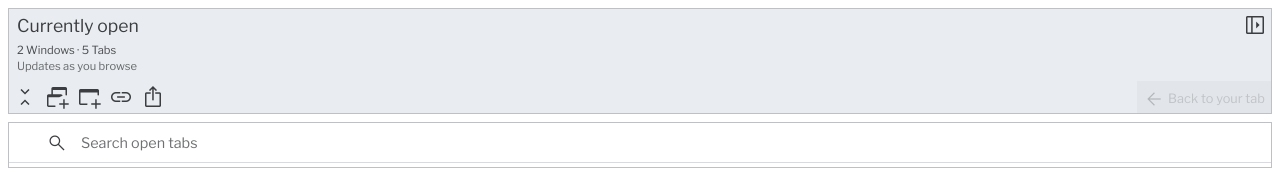
Test: live windows and groups (Open now) › Open now's header Copy all links icon › is hidden while the Open now search holds text, and back when it is cleared
Expected: the button named "Copy all links" is shown, [109,83,133,111]
Type "t2" into the field labelled "Search open tabs".
click(656, 142); type("t2")  # box [73,123,1239,162]
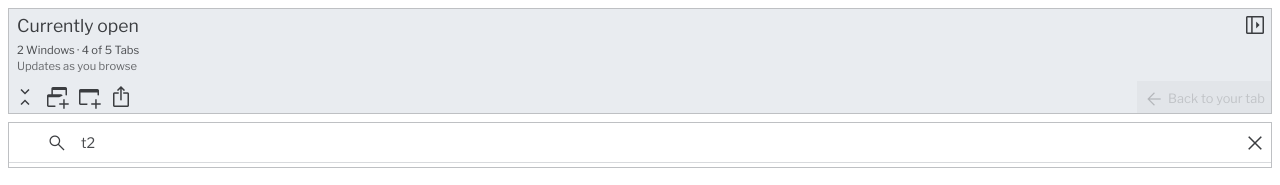
Expected: the button named "Save all open windows as a session" is shown, [45,85,69,109]
Clear the field named "Search open tabs" at (656, 142), box [73,123,1239,162]
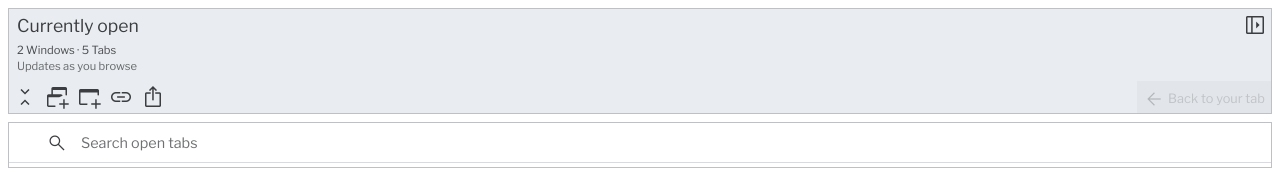
Result: the button named "Copy all links" is shown at [109,83,133,111]
